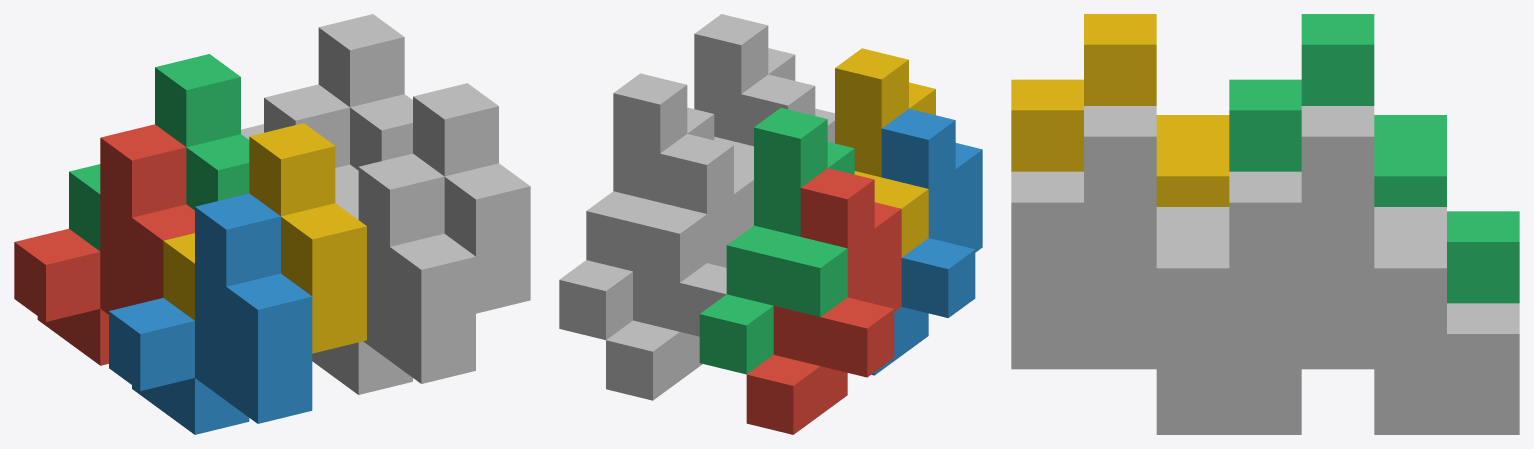
The model's file is tiling.obj.
3 renders of one model, left to right at view 1: azimuth 30°, elevation 25°; view 2: azimuth 150°, elevation 25°; view 3: azimuth 270°, elevation 25°, orthographic. The views are drawn at different scales.
Visible parts, largest first — view 1: copy_1_domain_2, copy_1_domain_6, copy_1_domain_1, copy_1_domain_4, copy_1_domain_8, copy_1_domain_3, copy_1_domain_7, copy_1_domain_5; view 2: copy_1_domain_1, copy_1_domain_3, copy_1_domain_7, copy_1_domain_5, copy_1_domain_2, copy_1_domain_4, copy_1_domain_8, copy_1_domain_6; view 3: copy_1_domain_7, copy_1_domain_8, copy_1_domain_3, copy_1_domain_4, copy_1_domain_6, copy_1_domain_5.
Part boxes in pixels (<box>): copy_1_domain_2: <box>109,193,312,434</box>; copy_1_domain_6: <box>312,153,475,394</box>; copy_1_domain_1: <box>14,124,194,365</box>; copy_1_domain_4: <box>163,123,366,353</box>; copy_1_domain_8: <box>335,83,530,313</box>; copy_1_domain_3: <box>69,54,249,251</box>; copy_1_domain_7: <box>241,14,412,170</box>; copy_1_domain_5: <box>264,84,358,198</box>; copy_1_domain_1: <box>746,168,901,434</box>; copy_1_domain_3: <box>699,107,854,374</box>; copy_1_domain_7: <box>559,73,714,339</box>; copy_1_domain_5: <box>606,134,753,400</box>; copy_1_domain_2: <box>871,109,982,375</box>; copy_1_domain_4: <box>835,48,935,257</box>; copy_1_domain_8: <box>694,14,795,172</box>; copy_1_domain_6: <box>741,74,834,146</box>; copy_1_domain_7: <box>1229,106,1519,399</box>; copy_1_domain_8: <box>1011,106,1301,399</box>; copy_1_domain_3: <box>1229,14,1519,303</box>; copy_1_domain_4: <box>1011,14,1229,206</box>; copy_1_domain_6: <box>1011,334,1301,434</box>; copy_1_domain_5: <box>1301,334,1519,434</box>.
Bounding box in the file's own units: 6 × 5 × 7.
